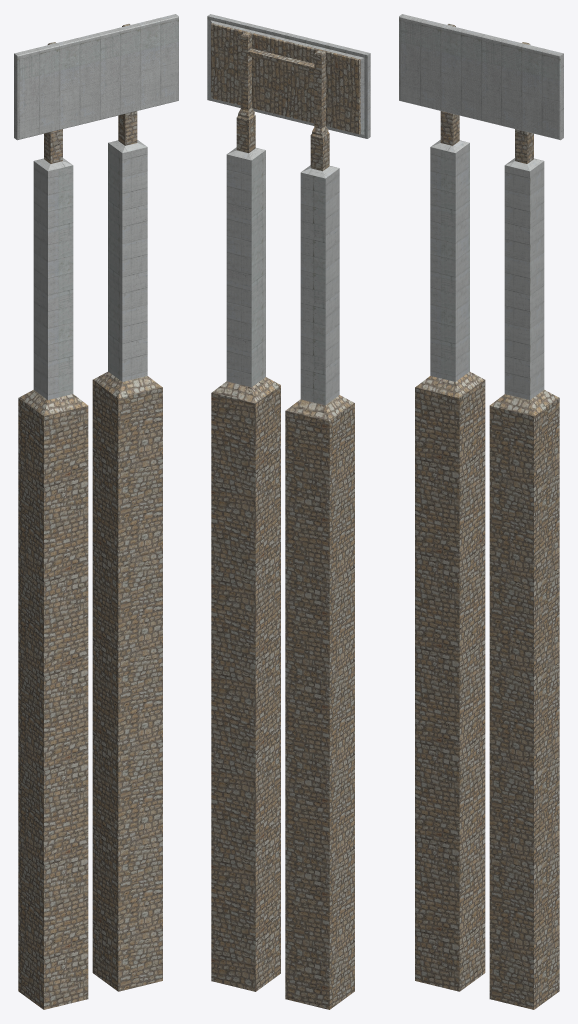
The model's file is Platform_Wall.fbx.
The picture shows the model from 3 angles, left to right: view 1: azimuth 30°, elevation 25°; view 2: azimuth 150°, elevation 25°; view 3: azimuth 330°, elevation 25°; orthographic projection.
Visible parts, largest first — view 1: pCube2; view 2: pCube2; view 3: pCube2.
Part boxes in pixels (x1,y1,x2,y2): pCube2: (14,14,178,1009); pCube2: (207,14,370,1009); pCube2: (399,14,563,1009).
Size of the model in its own units: 10 by 56.47 by 2.73.
Materials: 3 (2 with a texture image).
